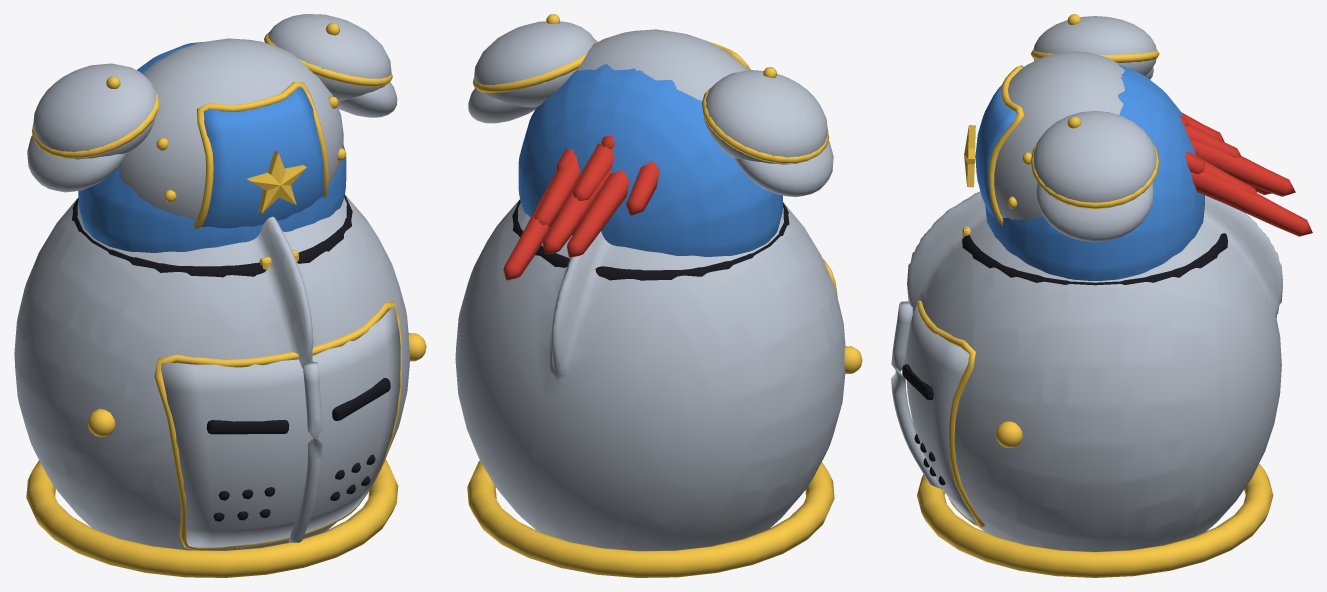
Rendered from knight.glb.
3 views of the same model, side by side, from view 1: azimuth 30°, elevation 25°; view 2: azimuth 150°, elevation 25°; view 3: azimuth 270°, elevation 25° (orthographic). The views are drawn at different scales.
Parts seen in each view (by area): view 1: knight_Head, knight_Body; view 2: knight_Head, knight_Body; view 3: knight_Head, knight_Body.
Part boxes in pixels (x1=…): knight_Head: x1=14, y1=195, x2=426, y2=577; knight_Body: x1=27, y1=14, x2=397, y2=277; knight_Head: x1=455, y1=135, x2=862, y2=577; knight_Body: x1=468, y1=14, x2=833, y2=280; knight_Head: x1=891, y1=112, x2=1312, y2=577; knight_Body: x1=962, y1=14, x2=1227, y2=285.
Size of the model in its own units: 0.2236 by 0.3138 by 0.2438.
